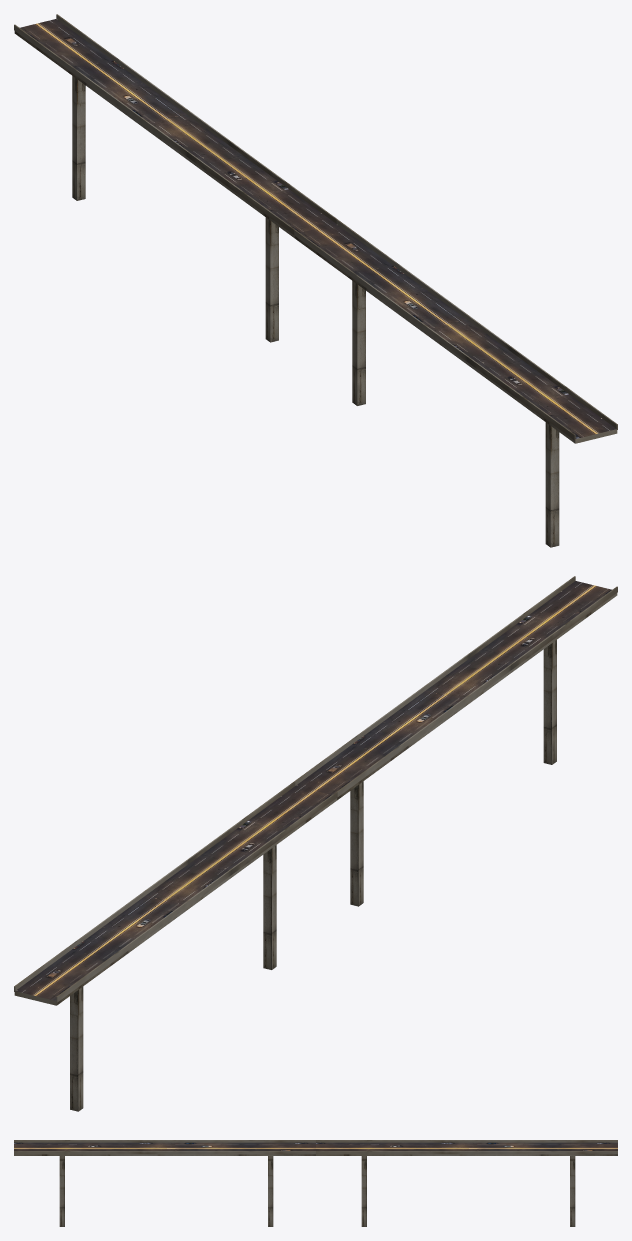
The model's file is CP_Background_Road_400m_03.fbx.
3 renders of one model, top to bottom at view 1: azimuth 30°, elevation 25°; view 2: azimuth 150°, elevation 25°; view 3: azimuth 270°, elevation 25°, orthographic. The views are drawn at different scales.
Visible parts, largest first — view 1: CP_Background_Road_400m_03; view 2: CP_Background_Road_400m_03; view 3: CP_Background_Road_400m_03.
Boxes of the visible parts, x1=… form: CP_Background_Road_400m_03: x1=14, y1=14, x2=617, y2=547; CP_Background_Road_400m_03: x1=14, y1=576, x2=617, y2=1111; CP_Background_Road_400m_03: x1=14, y1=1140, x2=617, y2=1226.
Size of the model in its own units: 1792 by 5834 by 40000.
